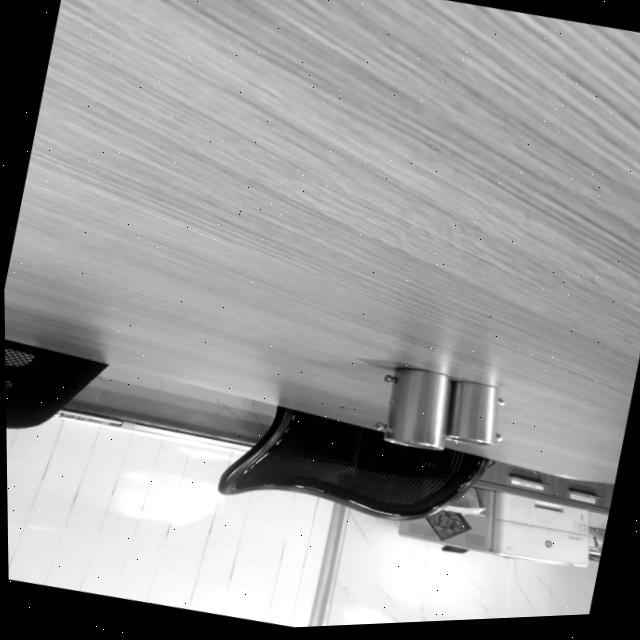Co_Lon: (370, 366, 451, 451)
Co_Nho: (443, 380, 509, 447)
